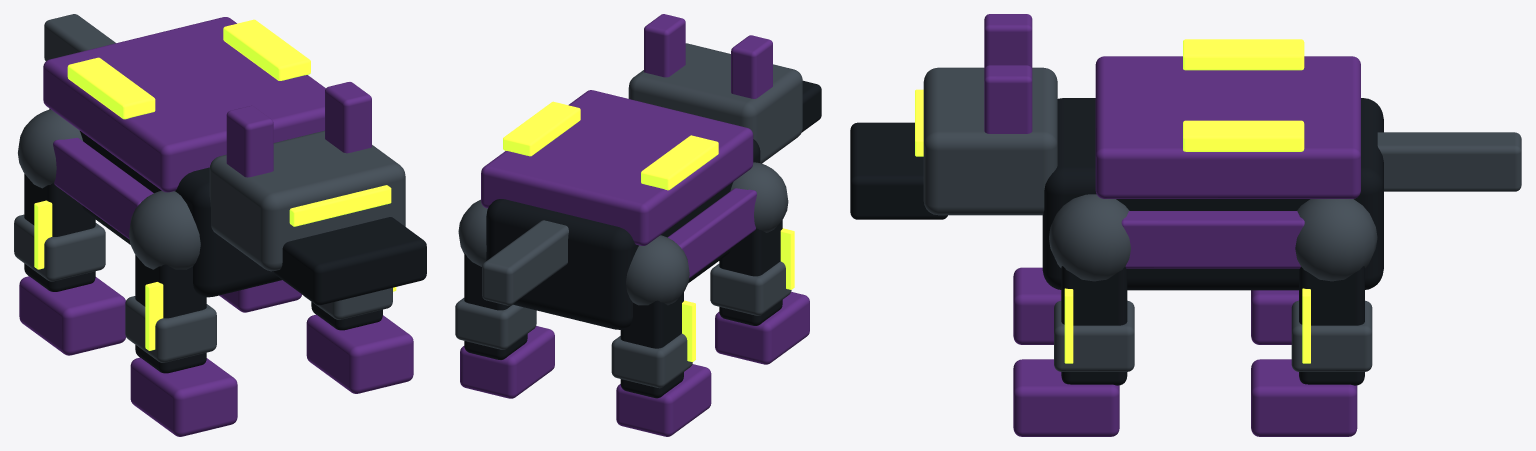
The model's file is hound_l04.glb.
3 renders of one model, left to right at view 1: azimuth 30°, elevation 25°; view 2: azimuth 150°, elevation 25°; view 3: azimuth 270°, elevation 25°, orthographic. The views are drawn at different scales.
Parts seen in each view (by area): view 1: dorsal_plating, armoured_paw (×4), hound_head, muzzle, reinforced_knee (×3), hip_joint (×2), servo_leg (×3), ear_array (×2), elite_tracking_light (×2), hound_core, flank_plate, tail (+2 smaller); view 2: dorsal_plating, armoured_paw (×3), hound_core, hound_head, reinforced_knee (×3), servo_leg (×3), hip_joint (×3), tail, ear_array (×2), elite_tracking_light (×2), flank_plate, servo_light (×2) (+1 smaller); view 3: dorsal_plating, armoured_paw (×4), hound_head, hound_core, hip_joint (×2), flank_plate, tail, elite_tracking_light (×2), servo_leg (×2), reinforced_knee (×2), muzzle, ear_array (×2) (+1 smaller).
Part boxes in pixels (x1=…): dorsal_plating: x1=43, y1=17, x2=325, y2=192; armoured_paw (×4): x1=19, y1=276, x2=413, y2=436; hound_head: x1=209, y1=130, x2=405, y2=271; muzzle: x1=273, y1=217, x2=426, y2=305; reinforced_knee (×3): x1=14, y1=214, x2=392, y2=362; hip_joint (×2): x1=18, y1=109, x2=200, y2=269; servo_leg (×3): x1=24, y1=173, x2=382, y2=373; ear_array (×2): x1=226, y1=82, x2=371, y2=177; elite_tracking_light (×2): x1=67, y1=19, x2=310, y2=119; hound_core: x1=49, y1=108, x2=281, y2=297; flank_plate: x1=53, y1=137, x2=153, y2=239; tail: x1=44, y1=14, x2=115, y2=60; dorsal_plating: x1=481, y1=90, x2=753, y2=245; armoured_paw (×3): x1=460, y1=292, x2=809, y2=436; hound_core: x1=486, y1=139, x2=760, y2=329; hound_head: x1=628, y1=43, x2=802, y2=163; reinforced_knee (×3): x1=455, y1=261, x2=791, y2=388; servo_leg (×3): x1=464, y1=220, x2=782, y2=398; hip_joint (×3): x1=458, y1=162, x2=788, y2=305; tail: x1=482, y1=220, x2=568, y2=305; ear_array (×2): x1=644, y1=14, x2=772, y2=98; elite_tracking_light (×2): x1=503, y1=101, x2=718, y2=190; flank_plate: x1=667, y1=188, x2=756, y2=278; servo_light (×2): x1=682, y1=228, x2=794, y2=362; dorsal_plating: x1=1095, y1=56, x2=1360, y2=198; armoured_paw (×4): x1=1013, y1=267, x2=1357, y2=436; hound_head: x1=923, y1=67, x2=1057, y2=215; hound_core: x1=1042, y1=98, x2=1383, y2=290; hip_joint (×2): x1=1049, y1=194, x2=1377, y2=281; flank_plate: x1=1121, y1=211, x2=1304, y2=268; tail: x1=1377, y1=132, x2=1521, y2=191; elite_tracking_light (×2): x1=1183, y1=39, x2=1304, y2=151; servo_leg (×2): x1=1061, y1=266, x2=1364, y2=385; reinforced_knee (×2): x1=1054, y1=300, x2=1372, y2=371; muzzle: x1=850, y1=122, x2=947, y2=219; ear_array (×2): x1=984, y1=14, x2=1032, y2=133.
Bounding box in the file's own units: 1.22 × 1.45 × 2.66.
